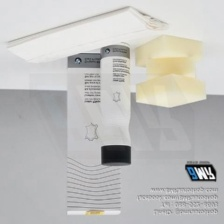book: (63, 50, 123, 217)
cleaning_solution: (97, 41, 133, 167)
